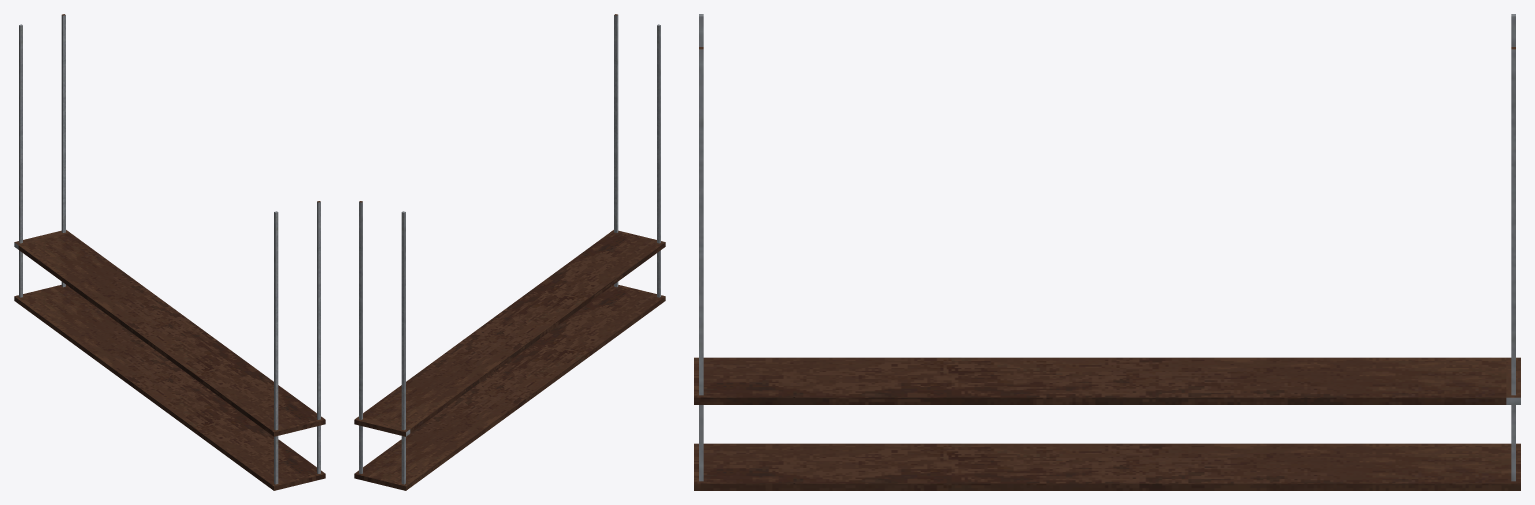
File: Hanging_Shelf.fbx
The picture shows the model from 3 angles, left to right: view 1: azimuth 30°, elevation 25°; view 2: azimuth 150°, elevation 25°; view 3: azimuth 270°, elevation 25°; orthographic projection. The views are drawn at different scales.
Parts seen in each view (by area): view 1: Hanging shelf; view 2: Hanging shelf; view 3: Hanging shelf.
Part boxes in pixels (x1,y1,x2,y2): Hanging shelf: (14,14,325,490); Hanging shelf: (354,14,665,490); Hanging shelf: (694,14,1520,490).
Bounding box in the file's own units: 285 × 1459 × 2478.
1 material, 1 textured.
